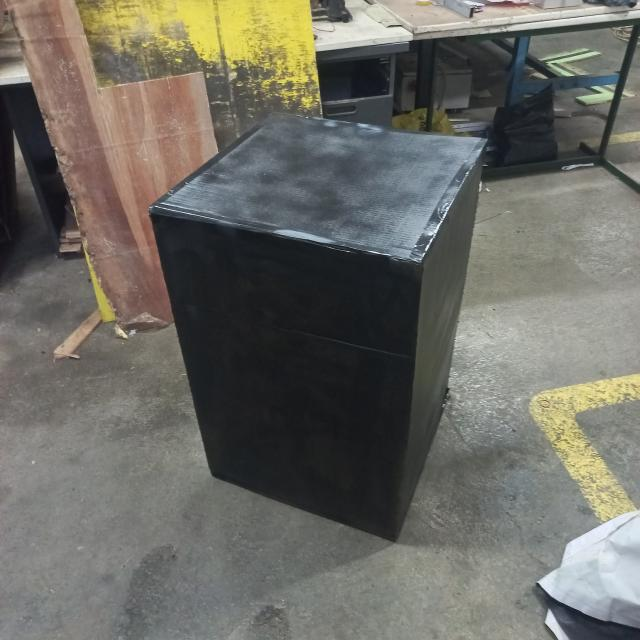obstacle: (149, 106, 490, 547)
